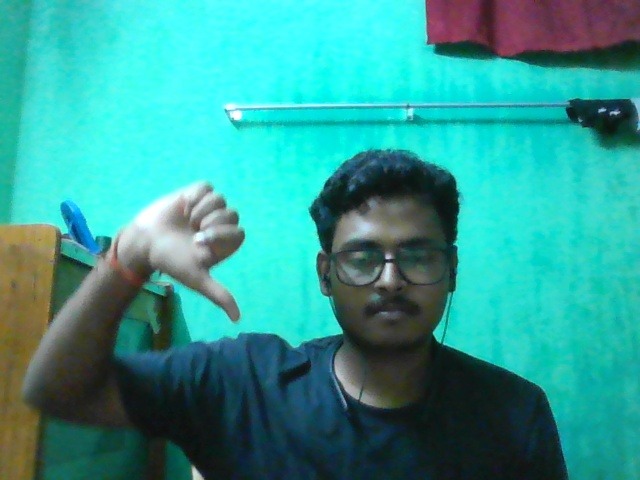ThumbsDown: (116, 177, 246, 324)
